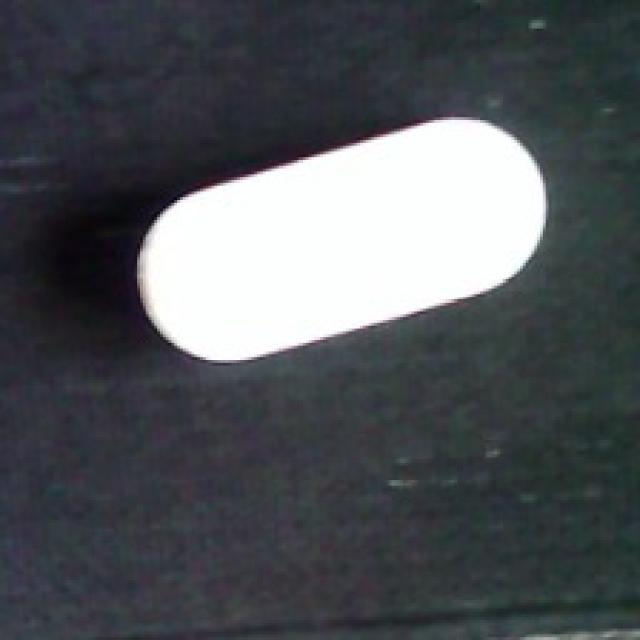no-defect: (132, 117, 552, 367)
